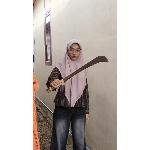Golok: (47, 53, 111, 95)
